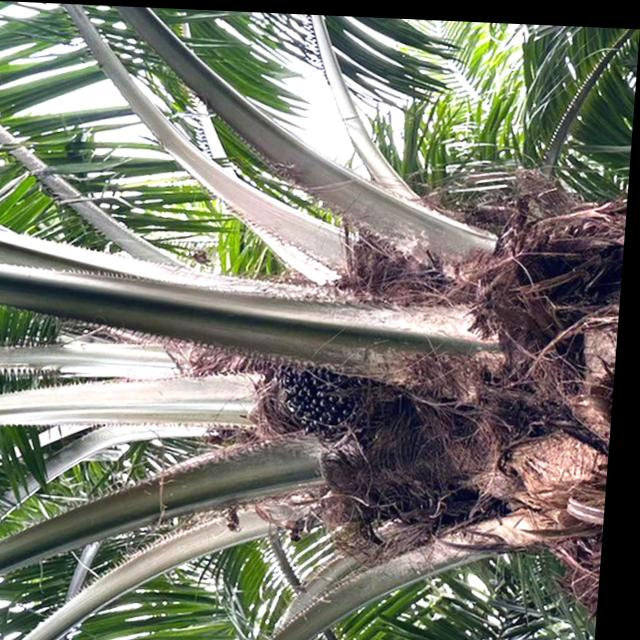unripe: (262, 324, 404, 447)
